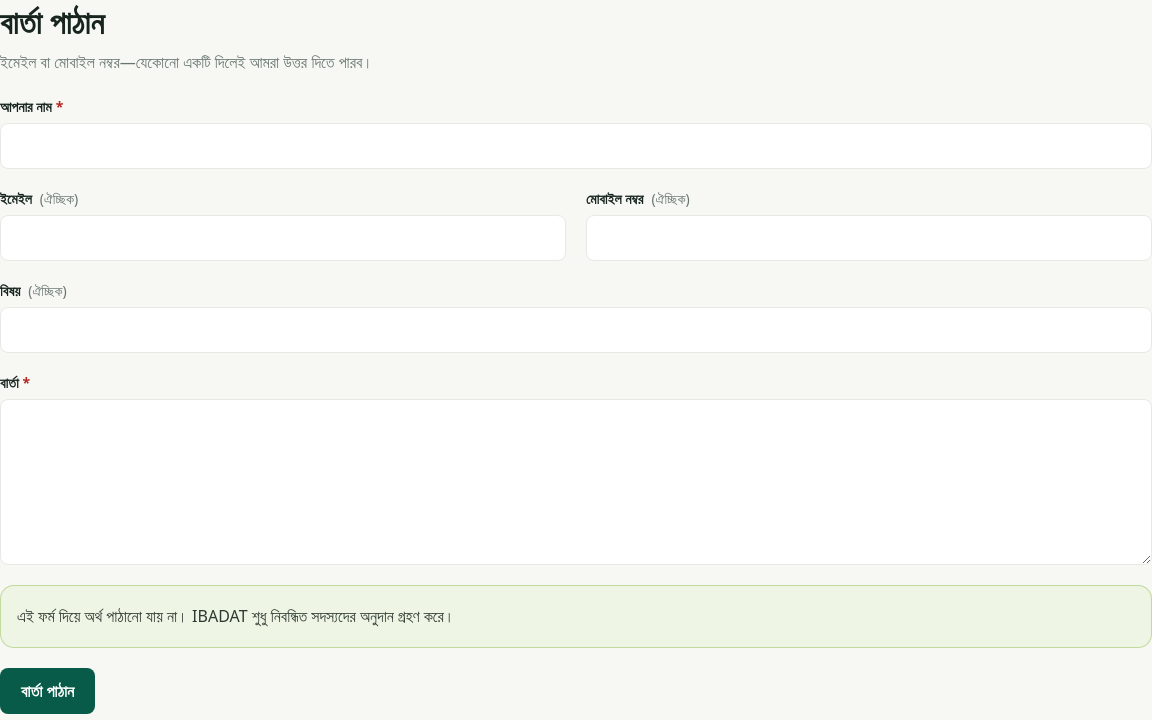
ContactForm › requires an email or a phone number
Type "Visitor" into the field labelled "আপনার নাম*" at (576, 146), box 0,123 -> 1151,169
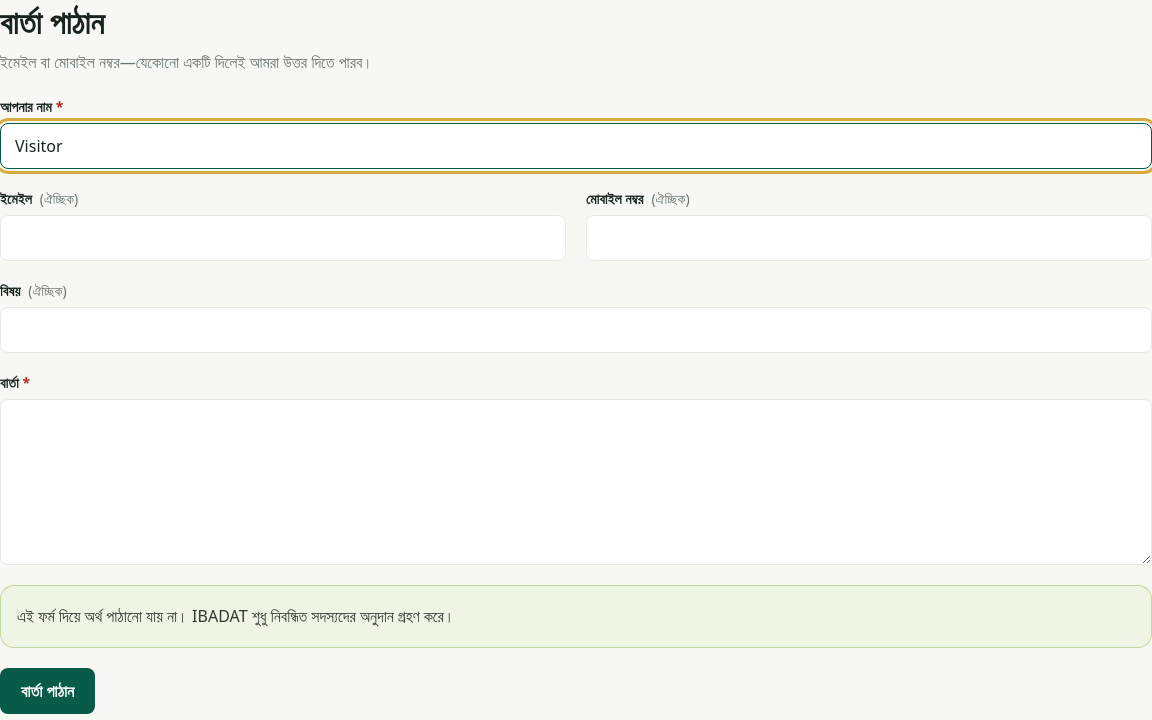
Type "একটি যথেষ্ট লম্বা বার্তা" into the text box labelled "বার্তা*" at (576, 482), box 0,399 -> 1151,565
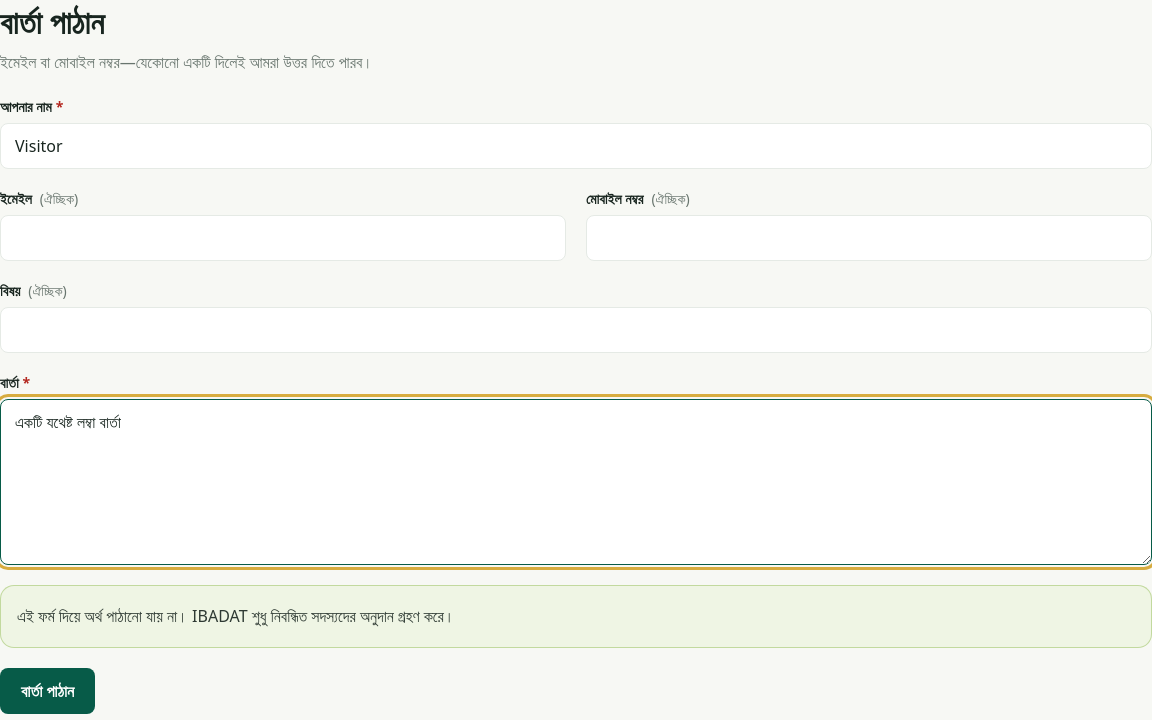
Click the button "বার্তা পাঠান" at (48, 691), box 0,668 -> 95,714
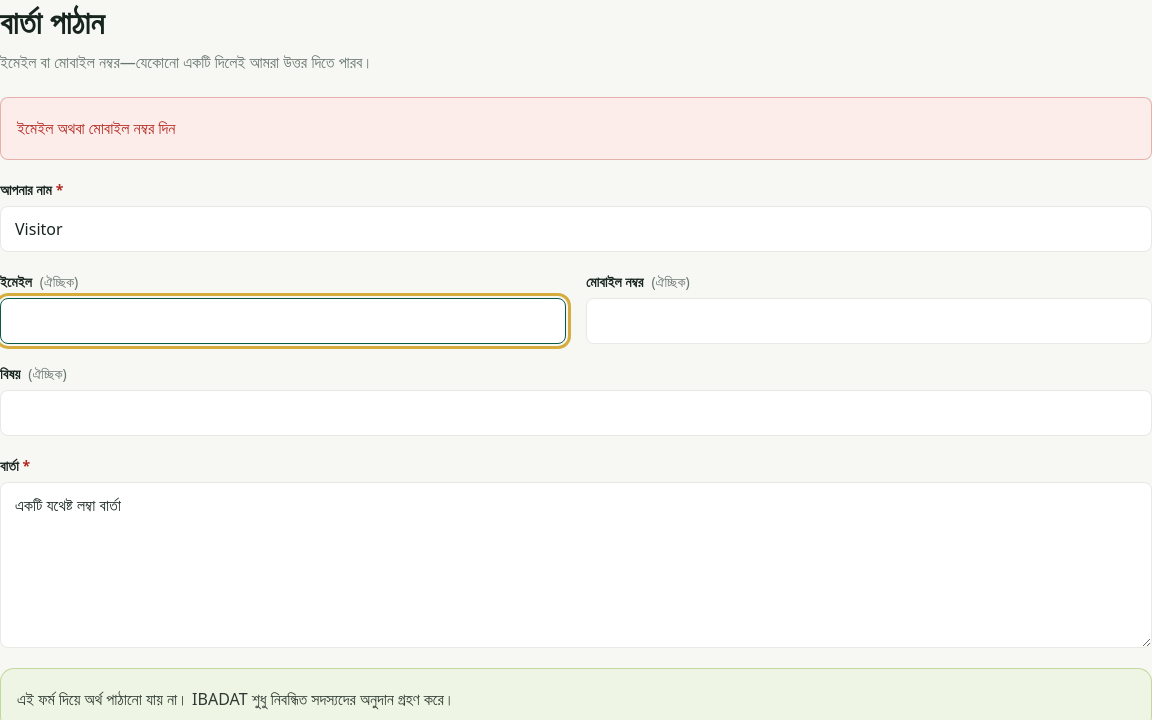
expect the message reads "ইমেইল অথবা মোবাইল নম্বর দিন": met, box 17,117 -> 175,139
